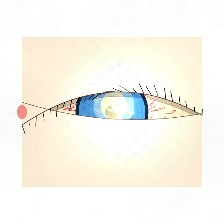corneal_ulcer: (90, 87, 138, 125)
